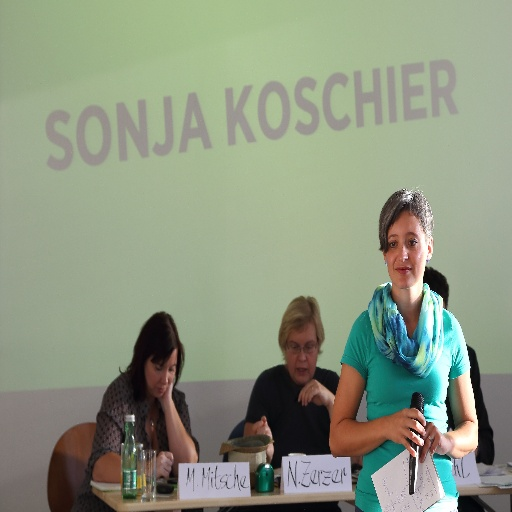hand: (385, 404, 428, 459), (420, 420, 448, 464), (297, 376, 333, 406), (251, 415, 274, 458), (146, 451, 174, 479), (155, 381, 173, 406)
